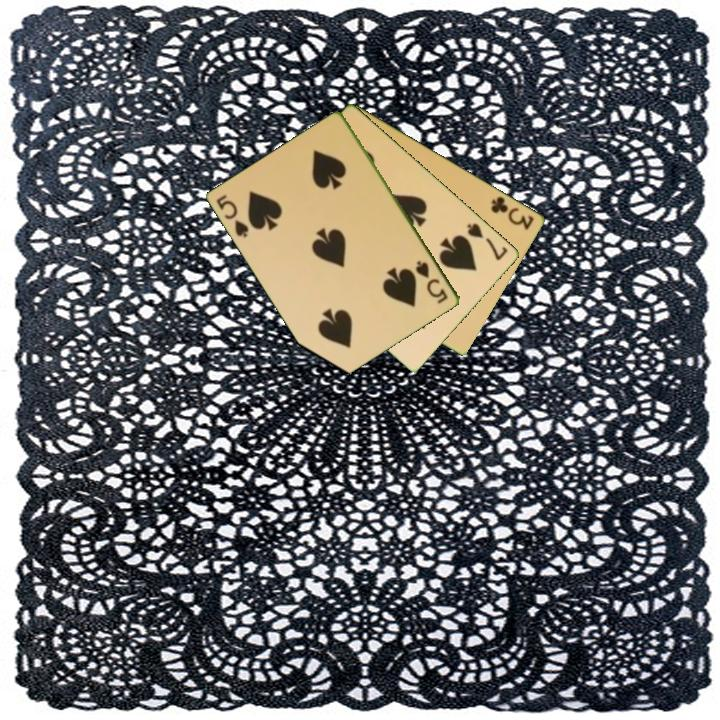3c: (488, 193, 537, 233)
5s: (412, 257, 451, 307), (213, 191, 252, 241)
7s: (463, 219, 511, 263)
